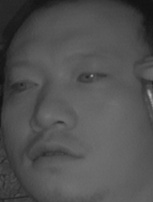eye: (75, 66, 110, 88), (8, 75, 39, 95)
mouth: (24, 136, 88, 174)
